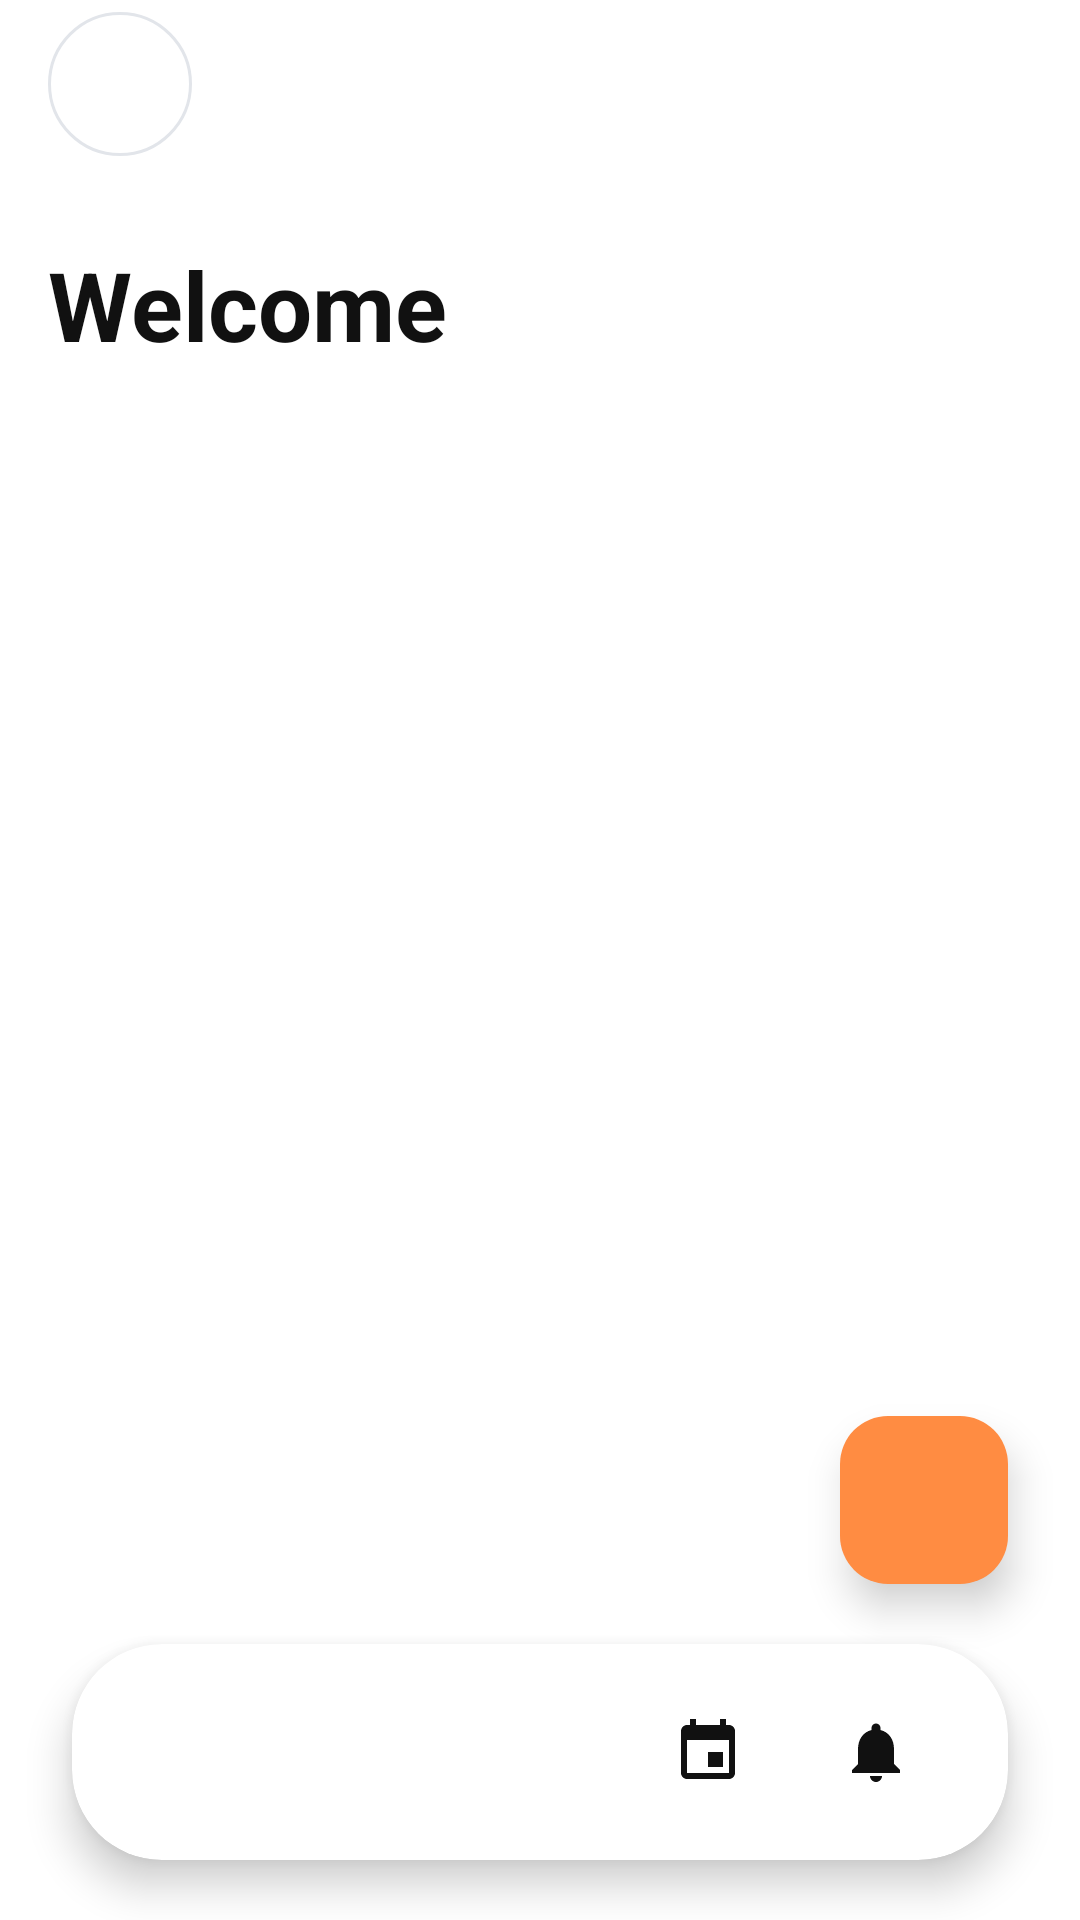

Point at icon controls on the screen. Image size 1080w x 1920h, points as (x=x, y=y).
home calendar: (x=708, y=1749)
